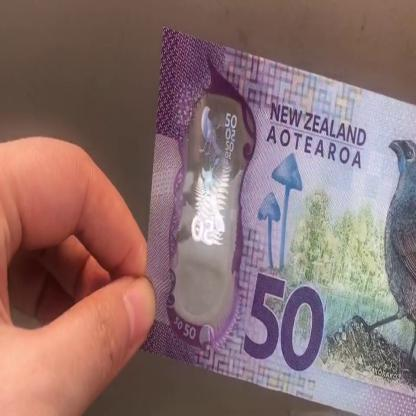50B: (183, 102, 238, 312)
